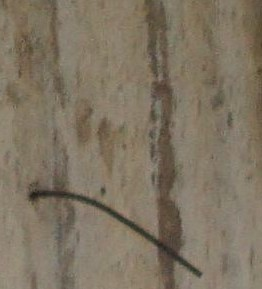Exposed reinforcement: (28, 189, 204, 279)
